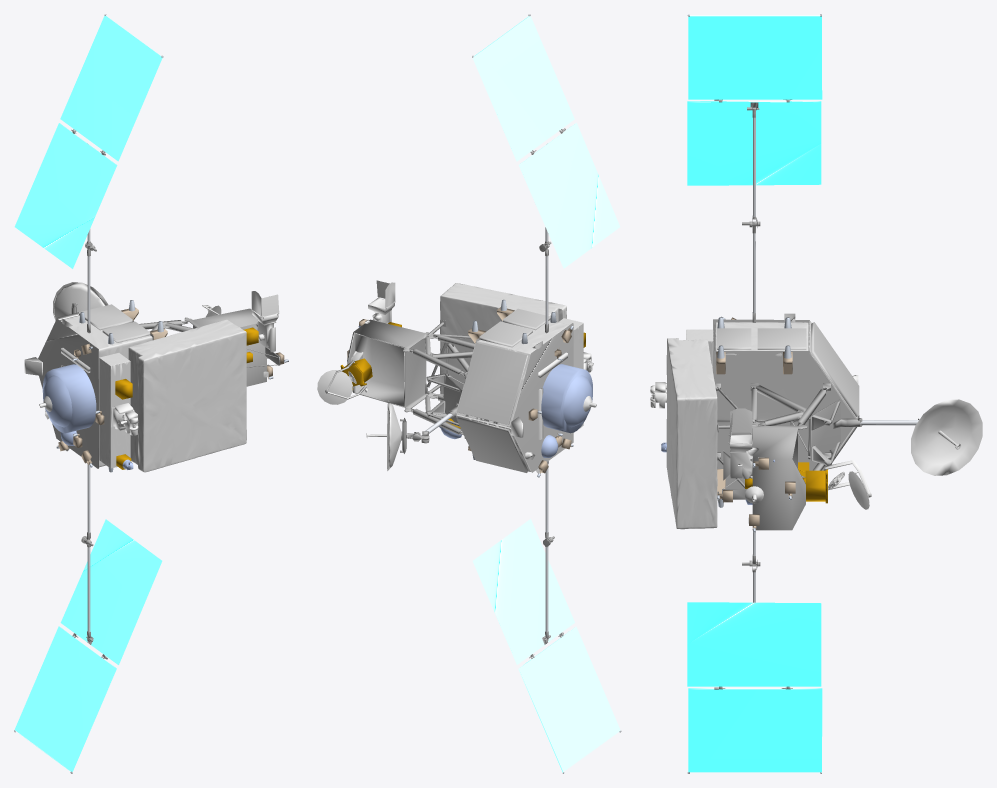
File: TRMM.glb
The picture shows the model from 3 angles, left to right: view 1: azimuth 30°, elevation 25°; view 2: azimuth 150°, elevation 25°; view 3: azimuth 270°, elevation 25°; orthographic projection. The views are drawn at different scales.
Parts seen in each view (by area): view 1: TRMM [Solar Panels], TRMM [TRMM_Body], TRMM [Grey Surfaces], TRMM [Blue_Surfaces], TRMM [Silver Surfaces], TRMM [Microwave Imager], TRMM [TRMM_Structure], TRMM [Satellite Dish], TRMM [Microwave_Arm], TRMM [Brown Surfaces], TRMM [Sat/Solar_Arms], TRMM [Orange Surfaces]; view 2: TRMM [Solar Panels], TRMM [Grey Surfaces], TRMM [TRMM_Structure], TRMM [TRMM_Body], TRMM [Blue_Surfaces], TRMM [Silver Surfaces], TRMM [Sat/Solar_Arms], TRMM [Brown Surfaces], TRMM [Satellite Dish], TRMM [Microwave_Arm], TRMM [Microwave Imager], TRMM [CERES] (+1 smaller); view 3: TRMM [Solar Panels], TRMM [Grey Surfaces], TRMM [TRMM_Body], TRMM [TRMM_Structure], TRMM [Microwave_Arm], TRMM [Silver Surfaces], TRMM [Brown Surfaces], TRMM [Sat/Solar_Arms], TRMM [Satellite Dish], TRMM [Microwave_Body].
Part boxes in pixels (left/top/right/bottom): TRMM [Solar Panels]: left=14, top=15, right=162, bottom=771; TRMM [TRMM_Body]: left=128, top=319, right=246, bottom=472; TRMM [Grey Surfaces]: left=38, top=304, right=153, bottom=468; TRMM [Blue_Surfaces]: left=42, top=364, right=133, bottom=469; TRMM [Silver Surfaces]: left=24, top=291, right=279, bottom=451; TRMM [Microwave Imager]: left=99, top=352, right=130, bottom=468; TRMM [TRMM_Structure]: left=139, top=308, right=280, bottom=386; TRMM [Satellite Dish]: left=60, top=315, right=152, bottom=467; TRMM [Microwave_Arm]: left=53, top=282, right=108, bottom=320; TRMM [Brown Surfaces]: left=58, top=307, right=284, bottom=465; TRMM [Sat/Solar_Arms]: left=87, top=229, right=90, bottom=632; TRMM [Orange Surfaces]: left=115, top=327, right=258, bottom=469; TRMM [Solar Panels]: left=472, top=16, right=620, bottom=772; TRMM [Grey Surfaces]: left=455, top=308, right=573, bottom=472; TRMM [TRMM_Structure]: left=347, top=319, right=474, bottom=438; TRMM [TRMM_Body]: left=440, top=283, right=566, bottom=401; TRMM [Blue_Surfaces]: left=358, top=326, right=592, bottom=457; TRMM [Silver Surfaces]: left=317, top=280, right=596, bottom=473; TRMM [Sat/Solar_Arms]: left=425, top=227, right=548, bottom=631; TRMM [Brown Surfaces]: left=347, top=307, right=572, bottom=473; TRMM [Satellite Dish]: left=478, top=320, right=568, bottom=471; TRMM [Microwave_Arm]: left=366, top=400, right=401, bottom=470; TRMM [Microwave Imager]: left=558, top=318, right=583, bottom=428; TRMM [CERES]: left=456, top=341, right=530, bottom=427; TRMM [Solar Panels]: left=687, top=15, right=822, bottom=772; TRMM [Grey Surfaces]: left=713, top=319, right=859, bottom=488; TRMM [TRMM_Body]: left=666, top=338, right=717, bottom=529; TRMM [TRMM_Structure]: left=715, top=383, right=840, bottom=530; TRMM [Microwave_Arm]: left=911, top=399, right=982, bottom=475; TRMM [Silver Surfaces]: left=650, top=313, right=871, bottom=523; TRMM [Brown Surfaces]: left=716, top=317, right=795, bottom=529; TRMM [Sat/Solar_Arms]: left=753, top=117, right=918, bottom=602; TRMM [Satellite Dish]: left=714, top=322, right=808, bottom=367; TRMM [Microwave_Body]: left=803, top=469, right=827, bottom=503.
Size of the model in its own units: 357 by 1012 by 376.
